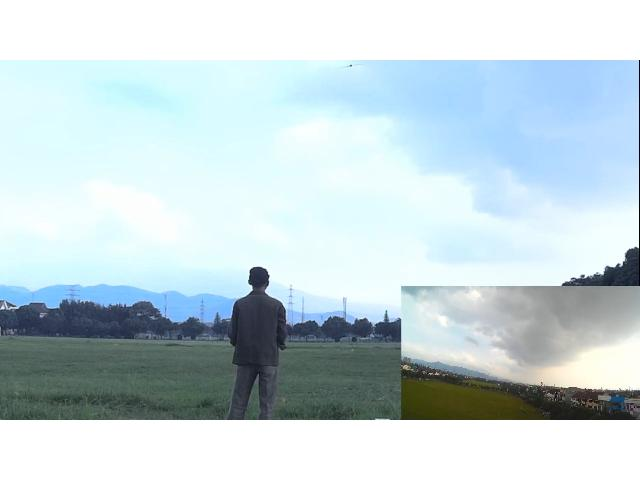Anti-Drone: (336, 61, 366, 76)
